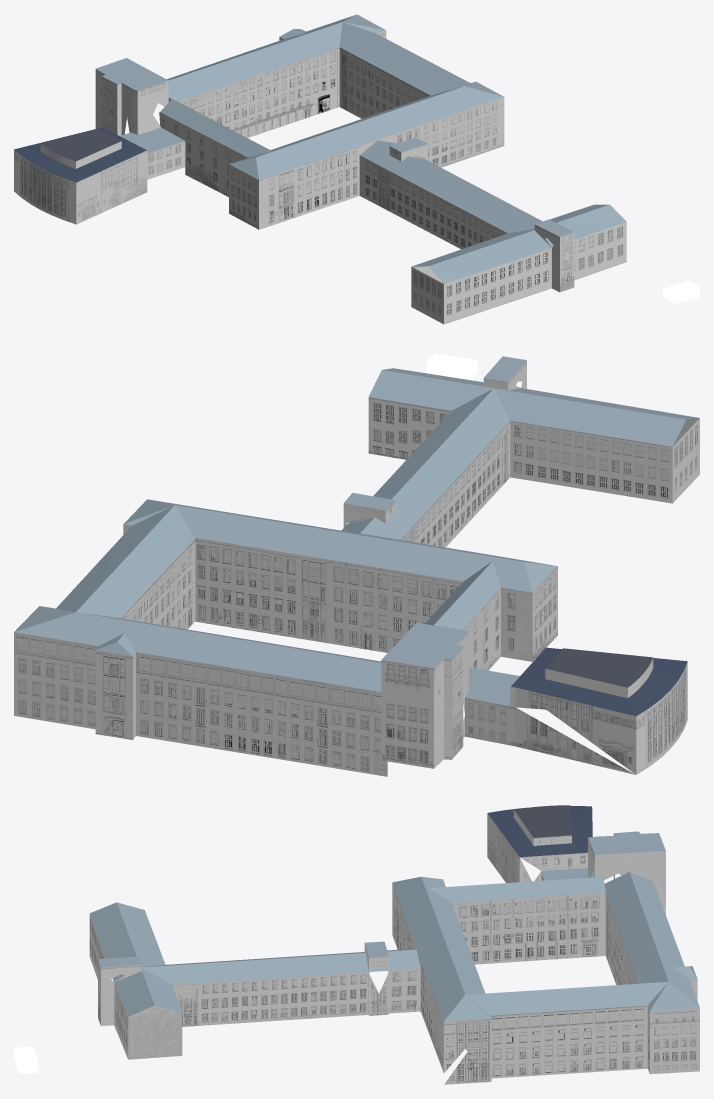
Rendered from 1Barkhausen-Bau.gltf.
3 renders of one model, top to bottom at view 1: azimuth 30°, elevation 25°; view 2: azimuth 150°, elevation 25°; view 3: azimuth 270°, elevation 25°, orthographic. The views are drawn at different scales.
Visible parts, largest first — view 1: Dach.1; view 2: Dach.1; view 3: Dach.1.
Part boxes in pixels (left/top/right/bottom): Dach.1: left=14, top=14, right=699, bottom=324; Dach.1: left=14, top=353, right=699, bottom=776; Dach.1: left=14, top=805, right=699, bottom=1084.
Bounding box in the file's own units: 147 × 29.5 × 196.
Materials: 59 (55 with a texture image).
